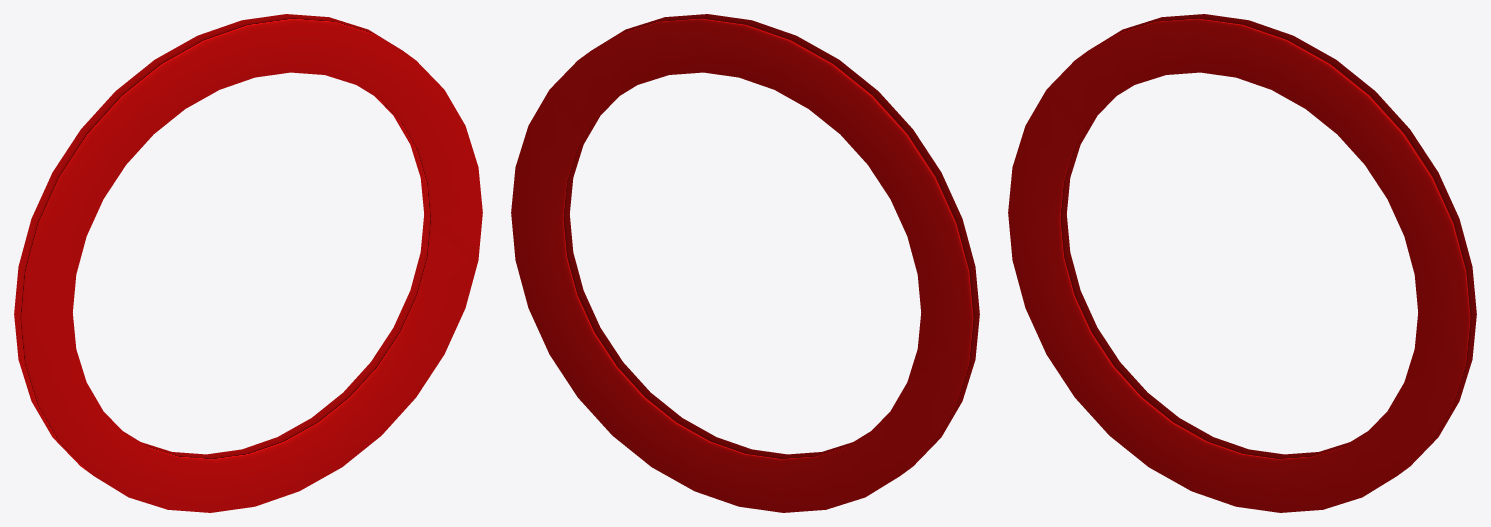
3 renders of one model, left to right at view 1: azimuth 30°, elevation 25°; view 2: azimuth 150°, elevation 25°; view 3: azimuth 330°, elevation 25°, orthographic.
Parts seen in each view (by area): view 1: Cylinder; view 2: Cylinder; view 3: Cylinder.
Part boxes in pixels (x1,y1,x2,y2): Cylinder: (14,14,482,512); Cylinder: (511,14,979,512); Cylinder: (1008,14,1476,512).
Size of the model in its own units: 2 by 2 by 0.1.
